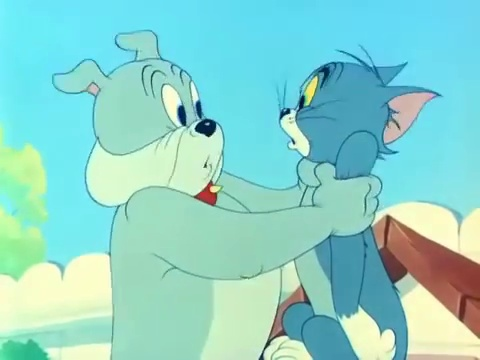spike: (48, 27, 230, 209)
tom: (276, 49, 452, 171)
